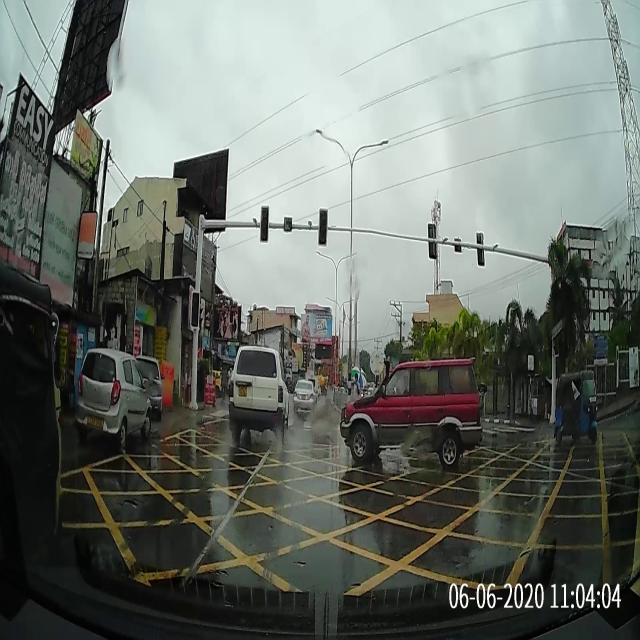Jeltaya razmetka: (62, 420, 637, 583)
